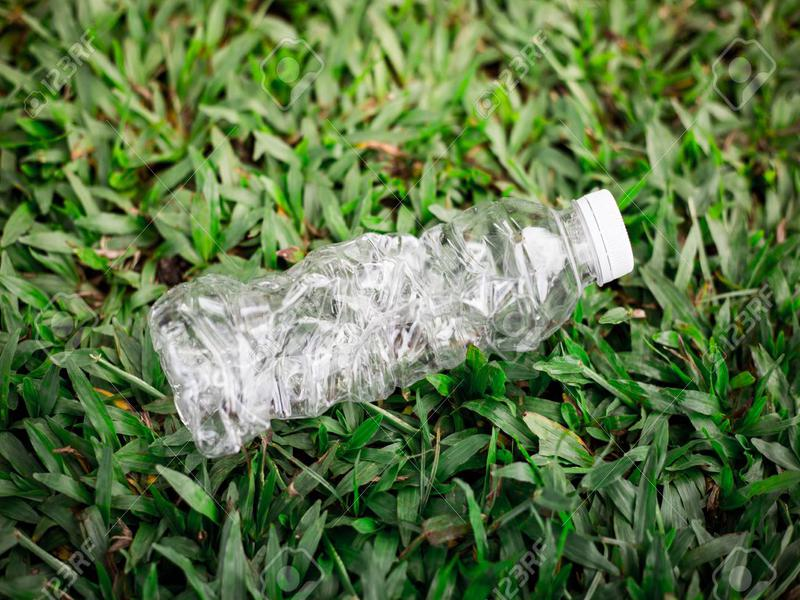bottle: (144, 186, 637, 460)
